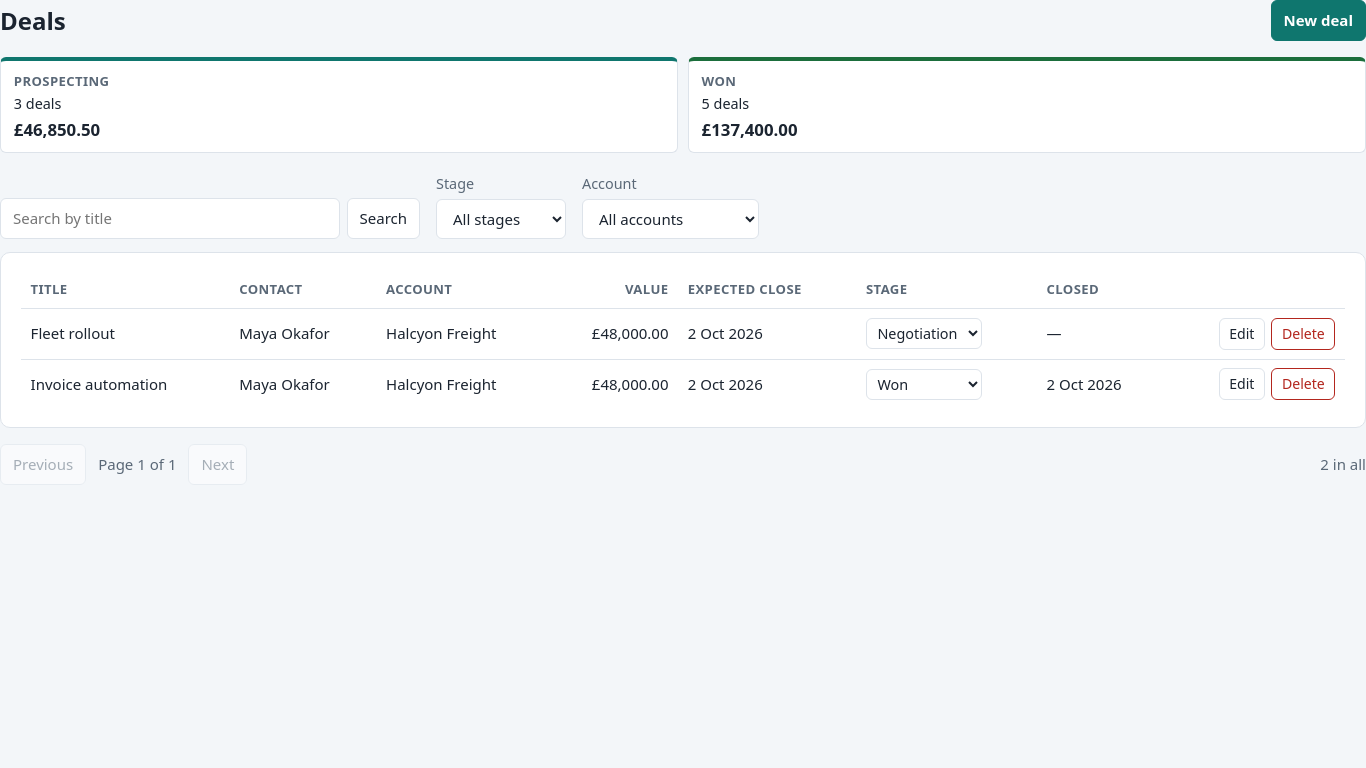
Scenario: DealsPage › asks for a reason before moving a deal to Lost, and sends it
Expected: the text "Fleet rollout" is shown, [21,309,230,359]
Select "Lost" in the dropdown named "Stage of Fleet rollout" at coordinates (924, 334), box [866,318,982,349]
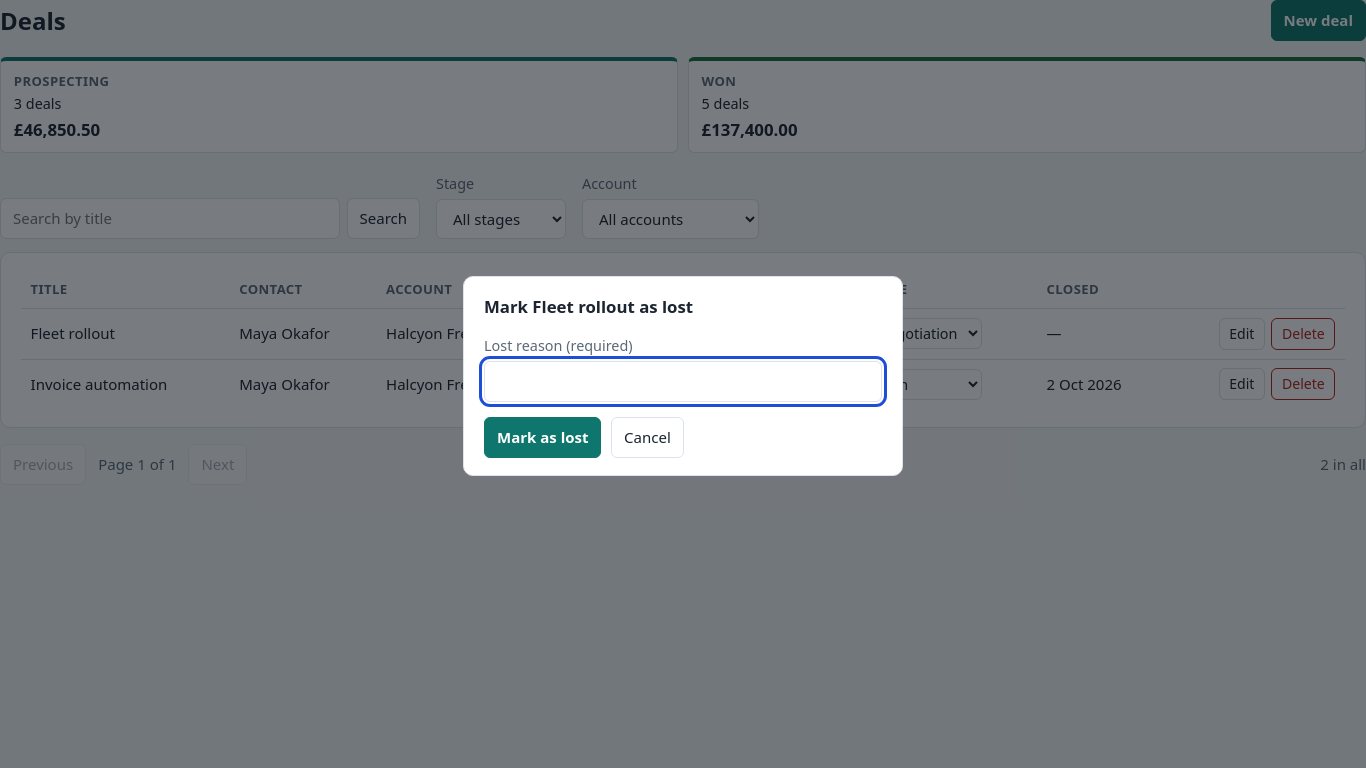
Click the button "Mark as lost".
click(543, 437)  # box [484,417,602,458]
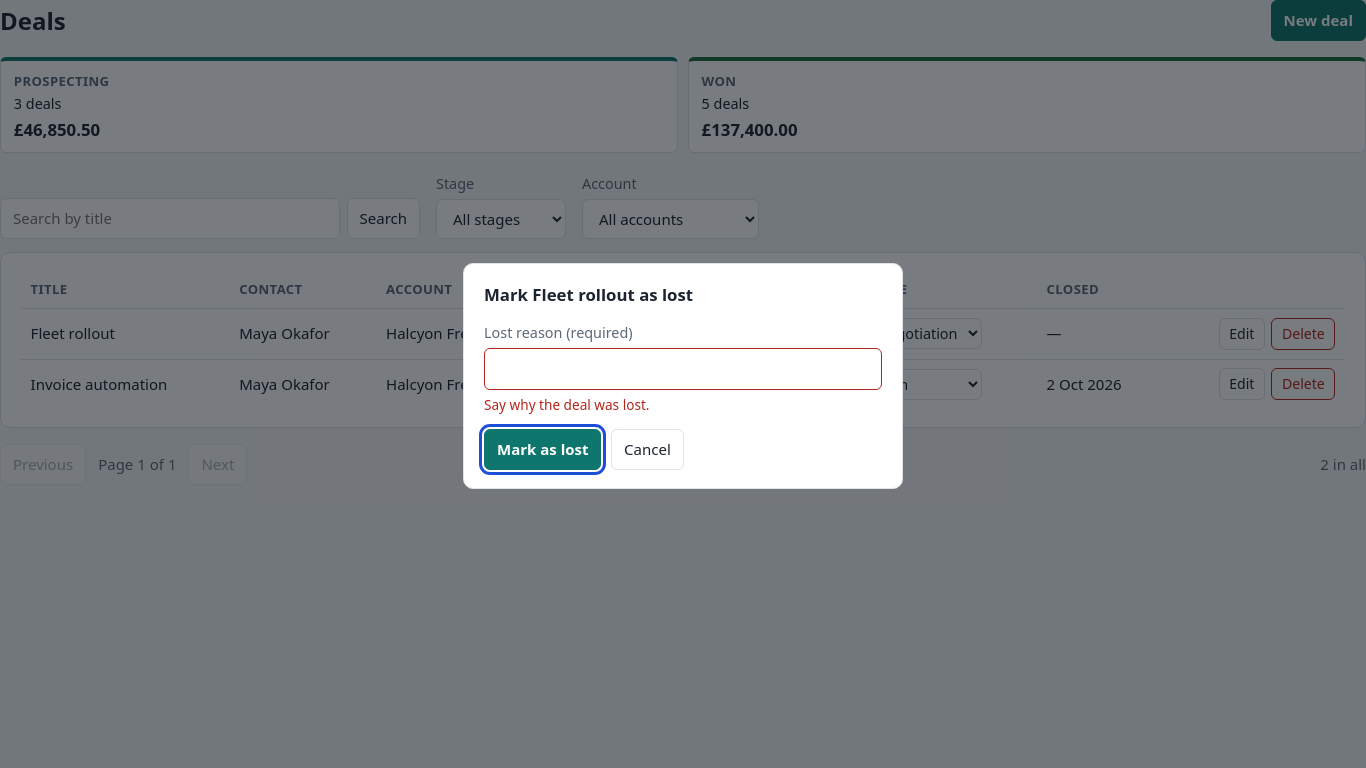
Result: the text "Say why the deal was lost." is shown at [484,395,650,414]
Type "Budget cut" into the field labelled "Lost reason (required)".
click(683, 369); type("Budget cut")  # box [484,348,882,390]
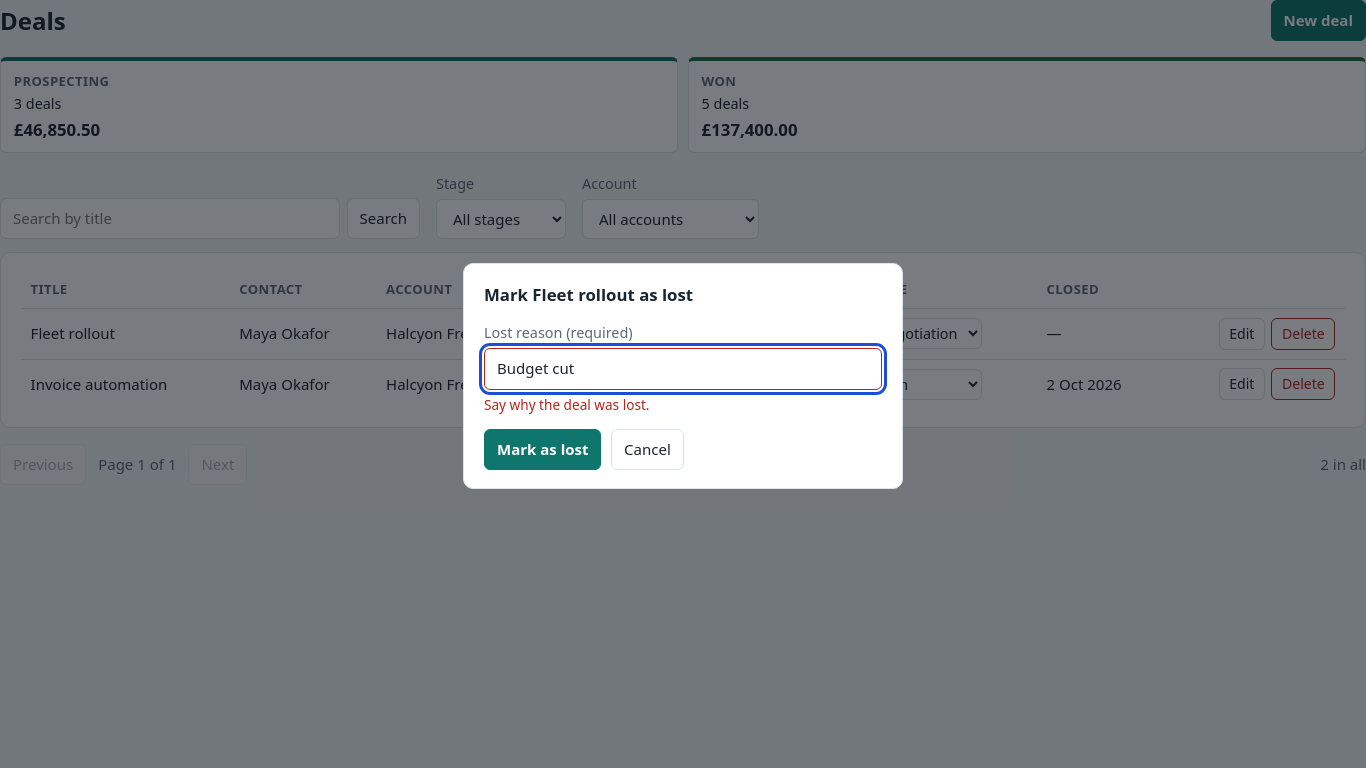
Click the button "Mark as lost".
click(543, 450)  # box [484,429,602,470]
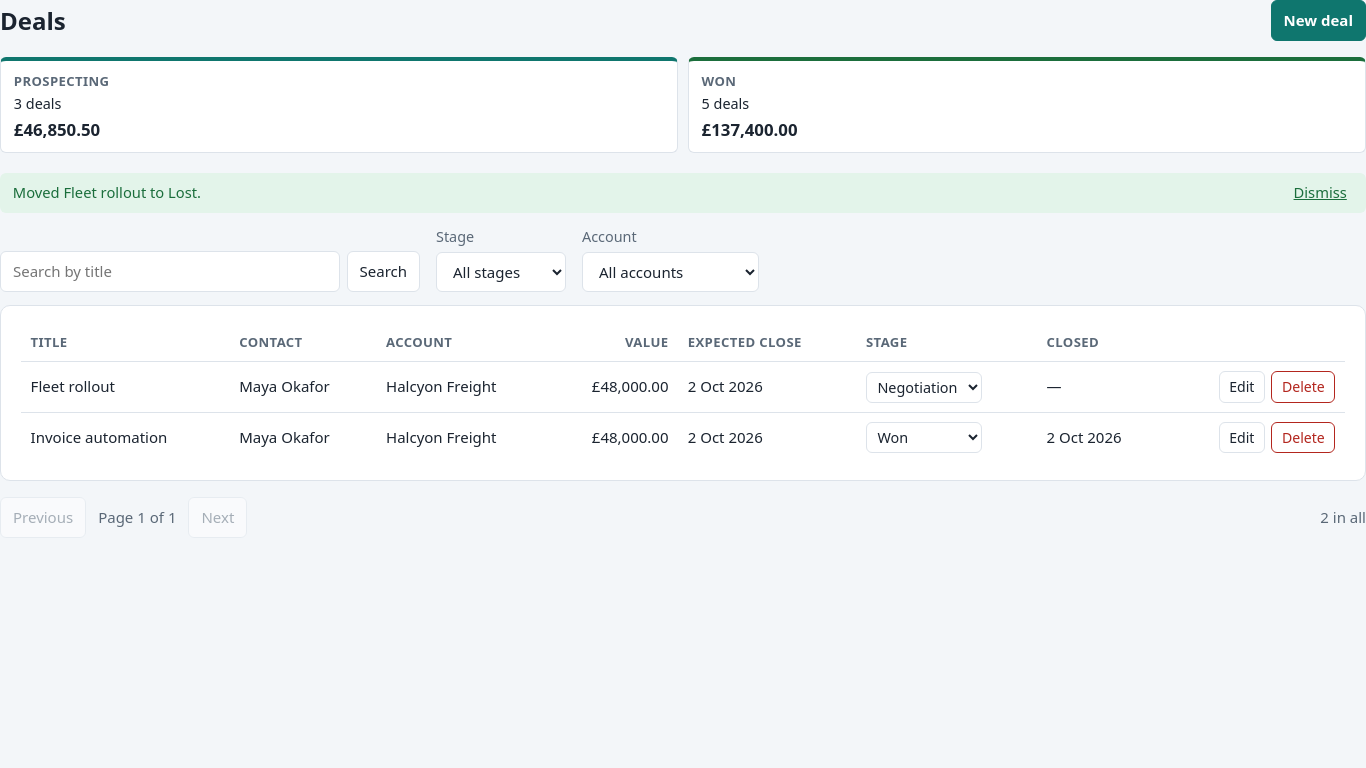
Result: the dialog is gone
